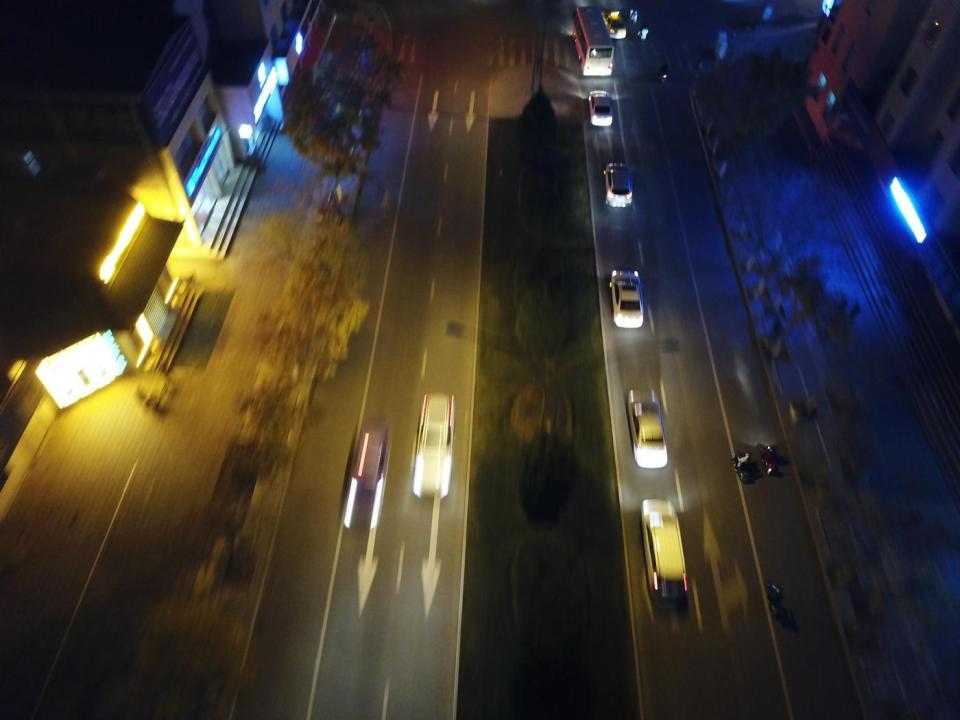bus: (573, 6, 613, 78)
car: (340, 418, 385, 536), (642, 498, 688, 607), (409, 395, 454, 496), (626, 386, 666, 468), (611, 266, 644, 330), (605, 162, 631, 206), (589, 91, 612, 128), (600, 9, 626, 40)
